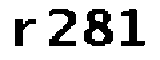1: (118, 7, 148, 51)
2: (44, 6, 81, 51)
8: (82, 7, 115, 51)
r: (10, 17, 37, 49)
